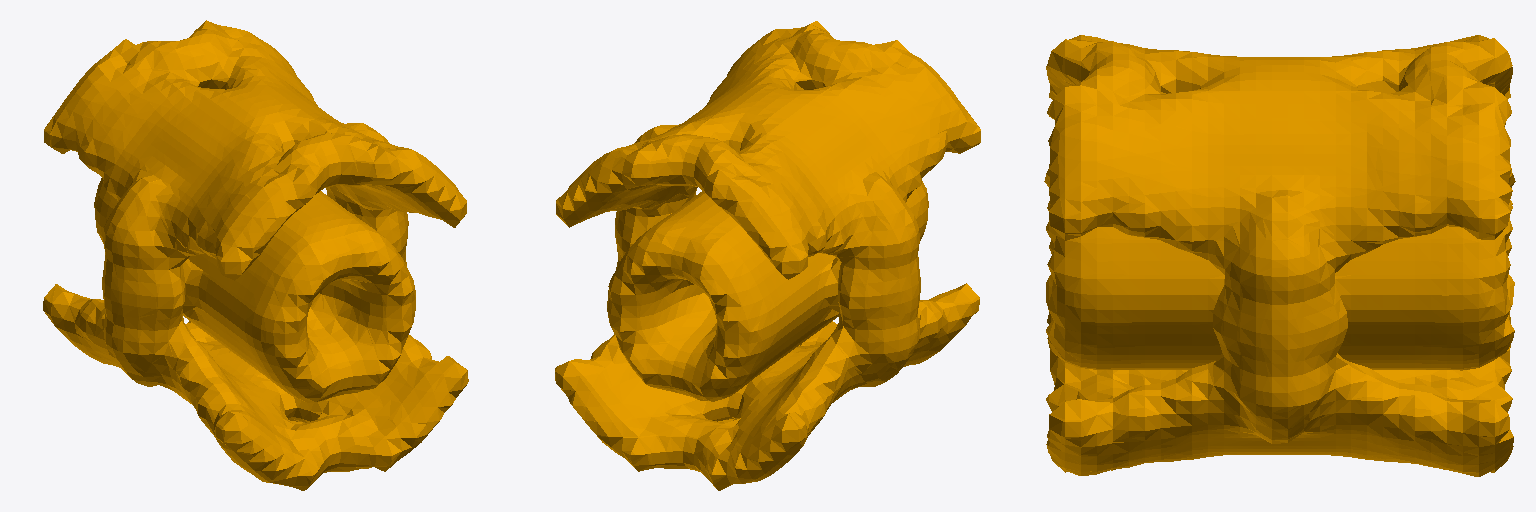
The robot description file, URDF, robot "J21_0":
<?xml version="1.0"?>
<robot name="J21_0">
  <link name="base_link">
    <inertial>
      <mass value="0.09207" />
      <origin xyz="0 0 0" />
      <inertia  ixx="0.0002" ixy="0.0"  ixz="0.0"  iyy="0.0002"  iyz="0.0" izz="0.0002" />
    </inertial>
    <visual>
      <geometry>
        <mesh filename="../../../meshes/egad/train/J21_0.obj" />
      </geometry>
    </visual>
    <collision>
      <geometry>
        <mesh filename="../../../meshes/egad/train/J21_0.obj" />
      </geometry>
    </collision>
  </link>
</robot>

--- Facts derived from the render (not from the file) ---
Views: 3 orthographic renders of the robot side by side, from view 1: azimuth 30°, elevation 25°; view 2: azimuth 150°, elevation 25°; view 3: azimuth 270°, elevation 25°.
Model J21_0 with 1 links and 0 joints (none), rooted at base_link, posed every joint at zero.
Links seen in each view (by area): view 1: base_link; view 2: base_link; view 3: base_link.
Boxes of the visible links, x1,y1,x2,y2 form: base_link: [43, 20, 468, 490]; base_link: [555, 21, 980, 490]; base_link: [1044, 35, 1515, 476].
Size in the robot's own frame: 0.06 by 0.0689 by 0.0647 metres.
Meshes: 1 distinct files referenced, 1 mesh visuals loaded (1 OBJ).